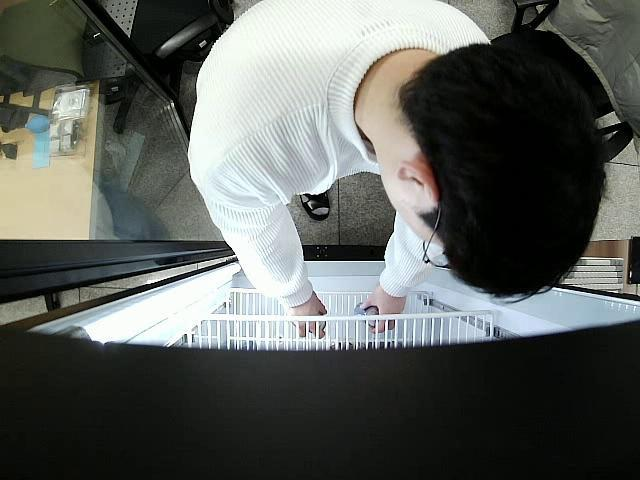16_hot6: (355, 302, 380, 328)
